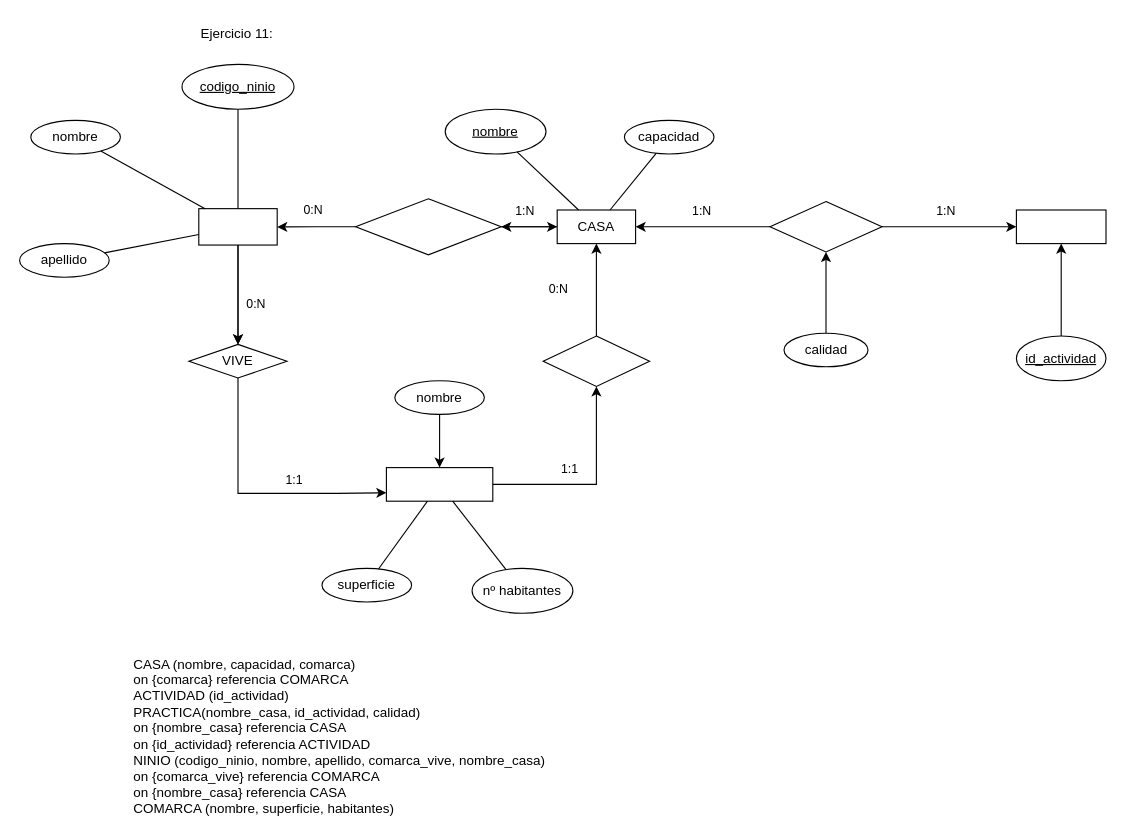
This 1126x836 diagram has some shape labels left out. Each missing label, with the centre of its shape:
ACTIVIDAD: point 1060,226
COMARCA: point 439,483
CONTIENE: point 596,360
NINIO: point 237,226
PRACTICA: point 825,226
SE ALOJA: point 427,226
